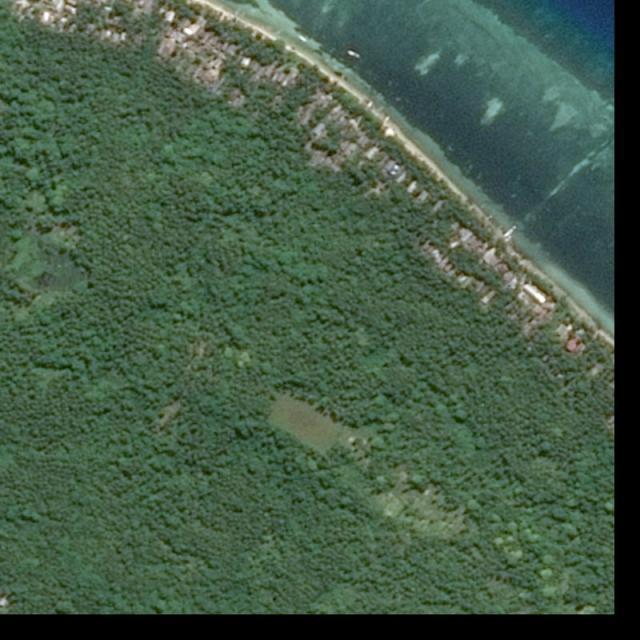ship: (347, 50, 362, 62)
